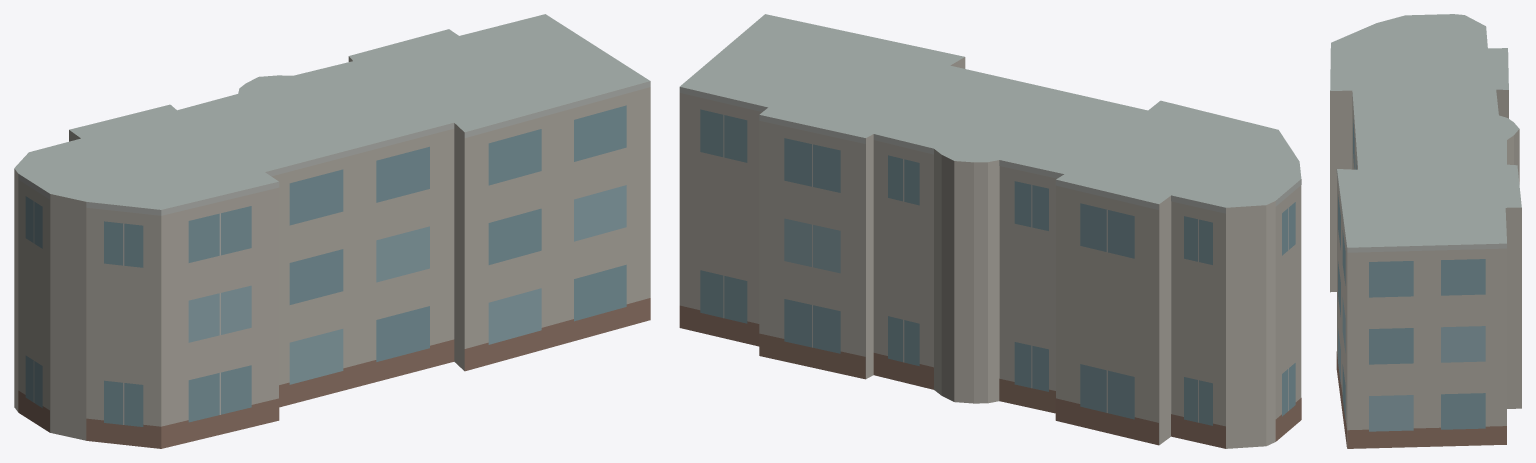
Rendered from survey-upis-32470681.glb.
The picture shows the model from 3 angles, left to right: view 1: azimuth 30°, elevation 25°; view 2: azimuth 150°, elevation 25°; view 3: azimuth 270°, elevation 25°; orthographic projection. The views are drawn at different scales.
Parts seen in each view (by area): view 1: survey-upis-32470681.tmp; view 2: survey-upis-32470681.tmp; view 3: survey-upis-32470681.tmp.
Part boxes in pixels (x1,y1,x2,y2): survey-upis-32470681.tmp: (14, 14, 650, 448); survey-upis-32470681.tmp: (679, 14, 1301, 448); survey-upis-32470681.tmp: (1330, 14, 1521, 448).
Bounding box in the file's own units: 24.43 × 9.8 × 8.48.
